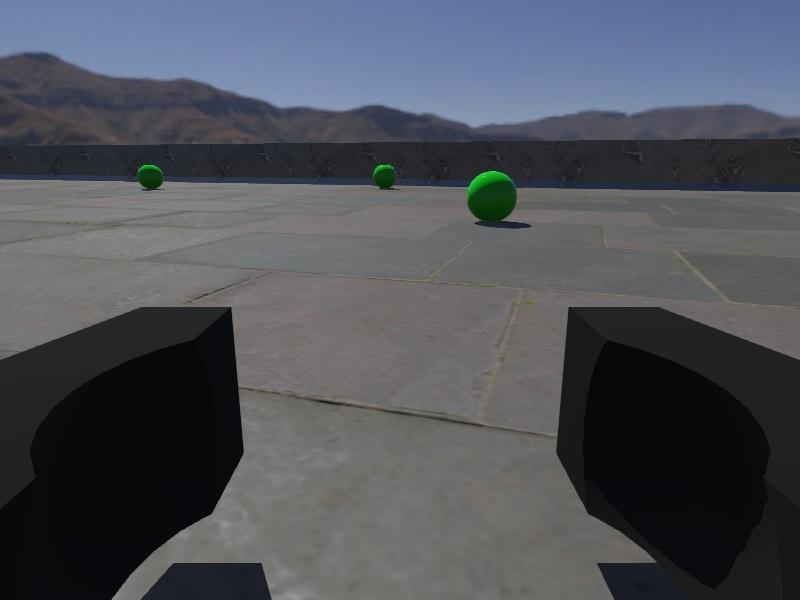green ball: (465, 171, 517, 222), (136, 163, 165, 190), (372, 162, 398, 190)
